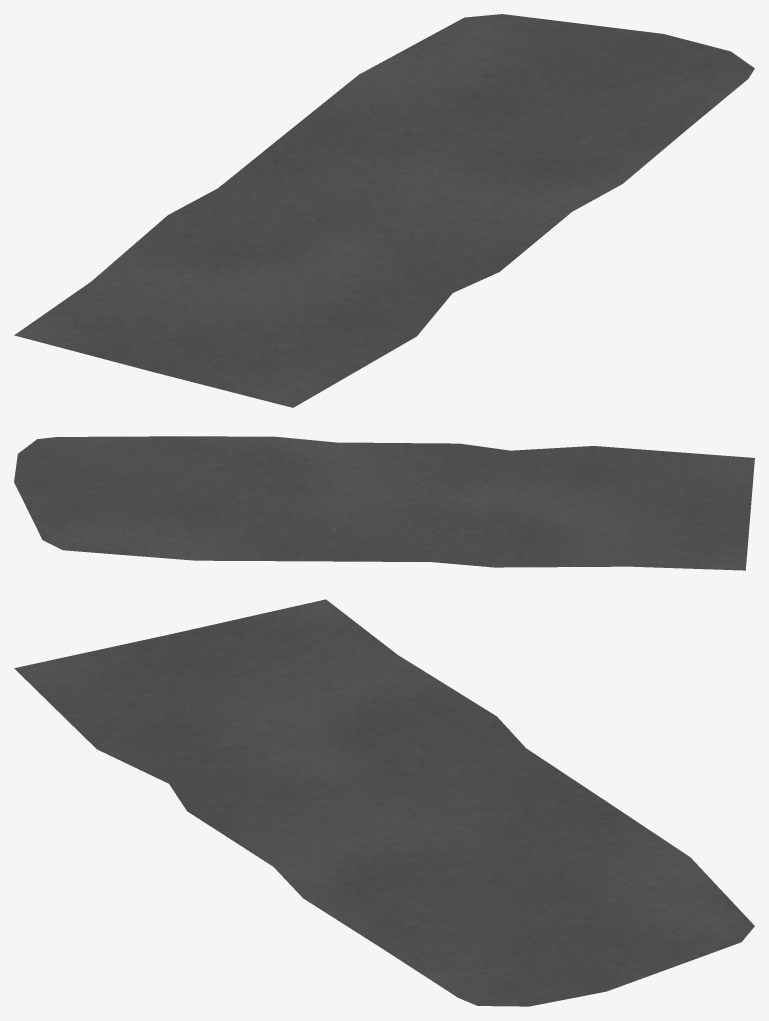
Rendered from road_05.gltf.
3 renders of one model, top to bottom at view 1: azimuth 30°, elevation 25°; view 2: azimuth 150°, elevation 25°; view 3: azimuth 270°, elevation 25°, orthographic. The views are drawn at different scales.
Parts seen in each view (by area): view 1: road_05.surface; view 2: road_05.surface; view 3: road_05.surface.
Part boxes in pixels (bbox=[...]): road_05.surface: bbox=[14, 14, 754, 407]; road_05.surface: bbox=[14, 436, 754, 570]; road_05.surface: bbox=[14, 599, 754, 1006].
Bounding box in the file's own units: 7.79 × 0.1581 × 5.74.
1 material, 1 textured.
